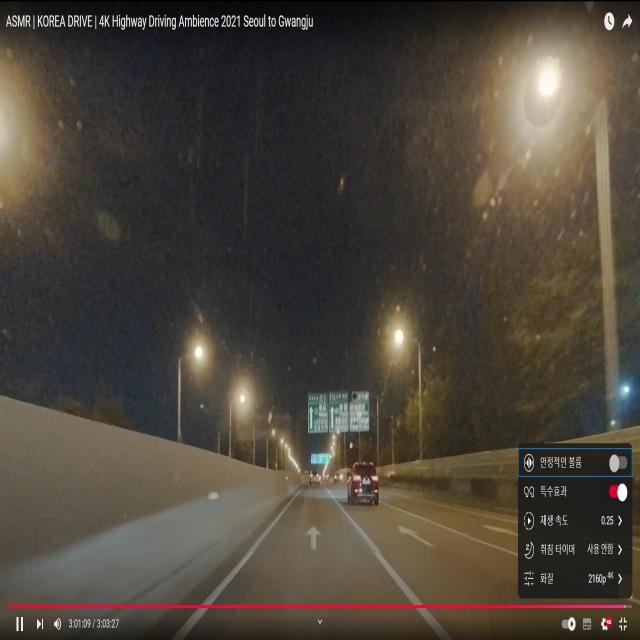forward: (232, 521, 402, 566)
